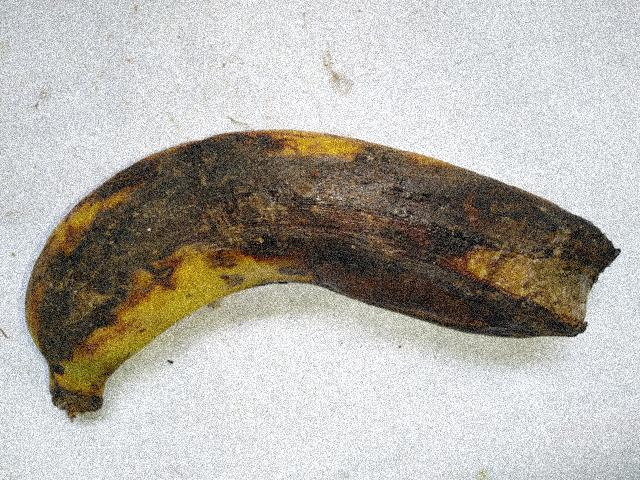rotten: (17, 100, 620, 406)
